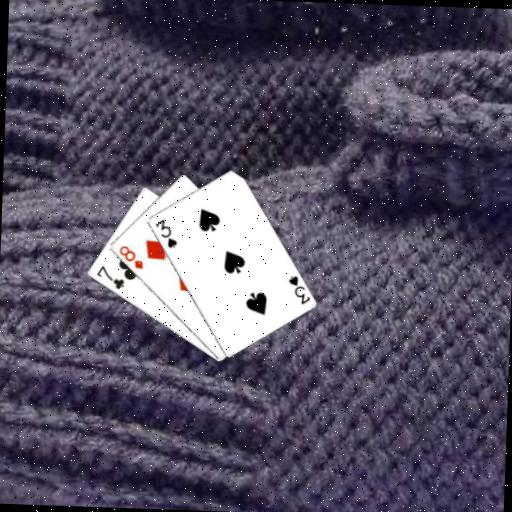3S: (151, 216, 180, 249), (284, 273, 312, 306)
7C: (92, 262, 125, 291)
8D: (115, 242, 145, 270)
